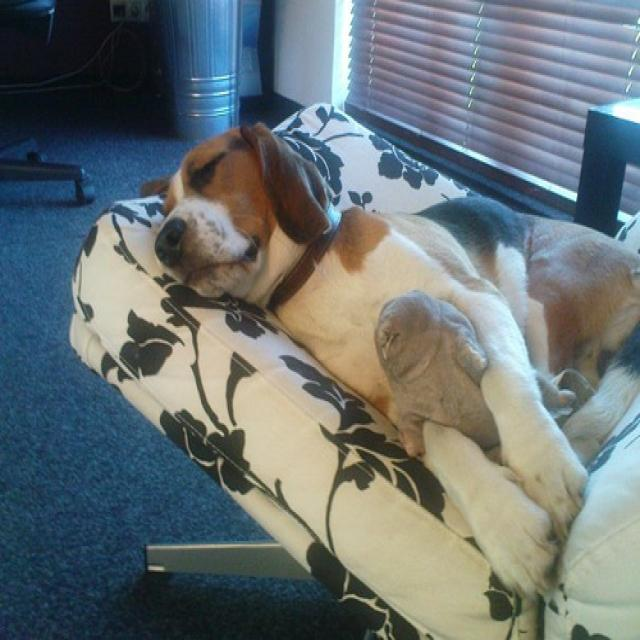dog-beagle: (129, 116, 637, 602)
